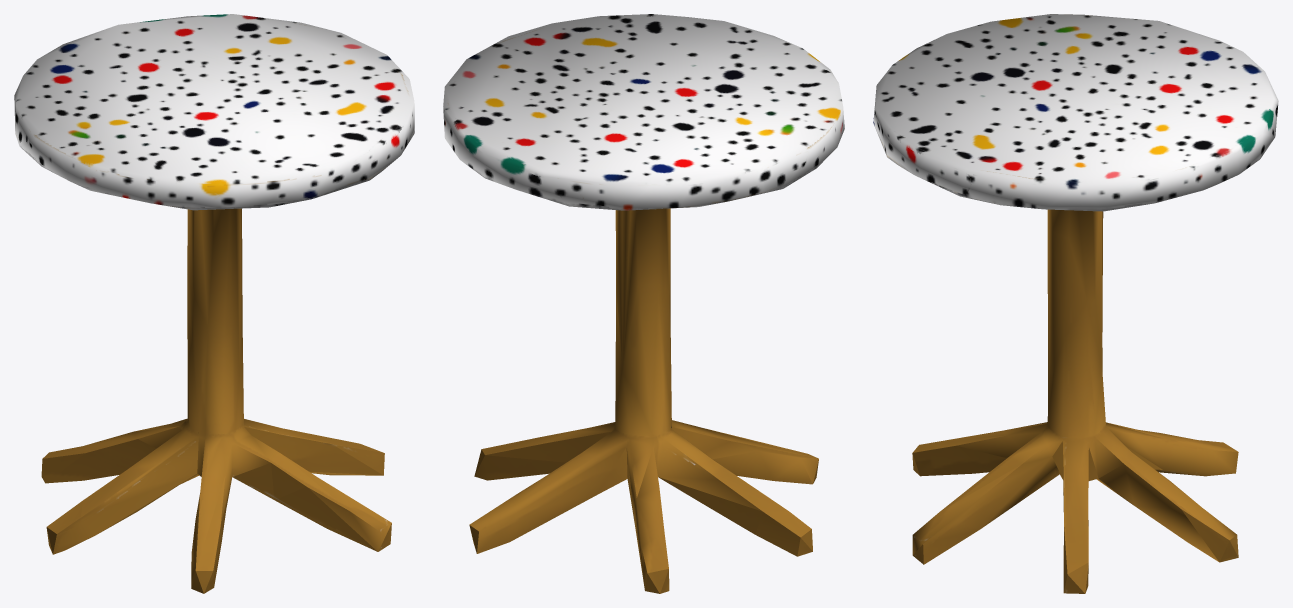
Rendered from terrazzo-tripod-table.glb.
3 views of the same model, side by side, from view 1: azimuth 30°, elevation 25°; view 2: azimuth 150°, elevation 25°; view 3: azimuth 270°, elevation 25° (orthographic).
Parts seen in each view (by area): view 1: geometry_0.001; view 2: geometry_0.001; view 3: geometry_0.001.
Boxes of the visible parts, x1=… form: geometry_0.001: x1=14, y1=14, x2=414, y2=593; geometry_0.001: x1=443, y1=14, x2=844, y2=593; geometry_0.001: x1=873, y1=14, x2=1278, y2=593.
Bounding box in the file's own units: 0.8784 × 1 × 0.8784.
1 material, 1 textured.
